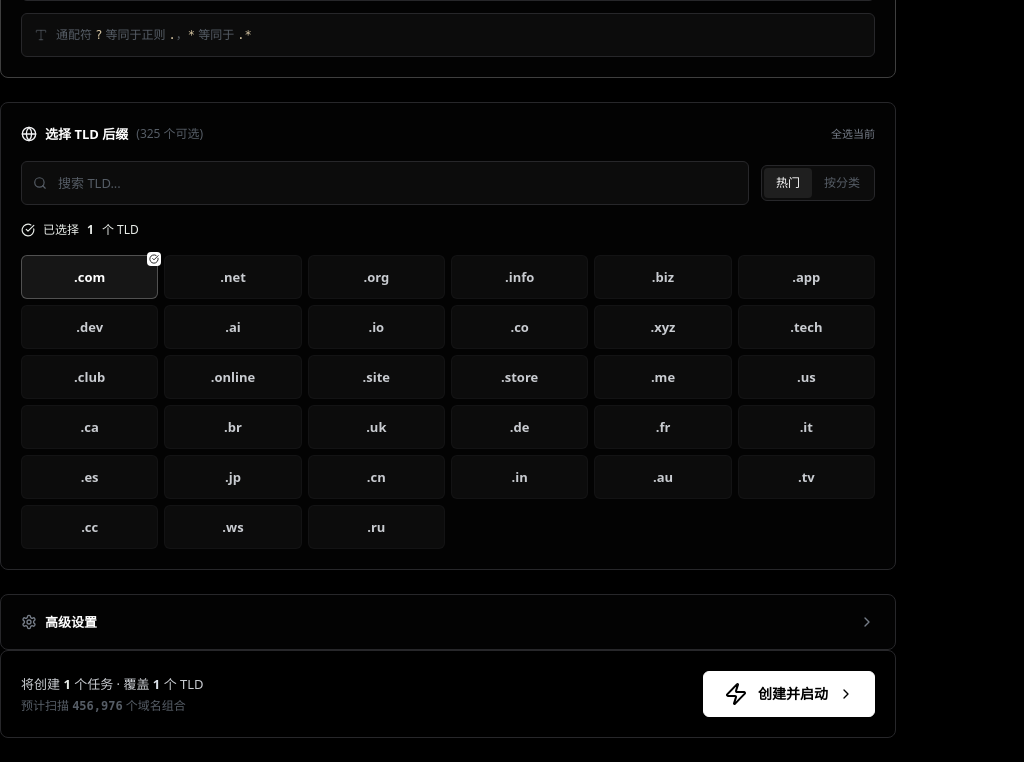
Test: NewTask proxy selection › supports selecting an offline proxy with the keyboard
(page scrolled)
Click the text "高级设置".
click(59, 622)  # box [21,611,97,633]
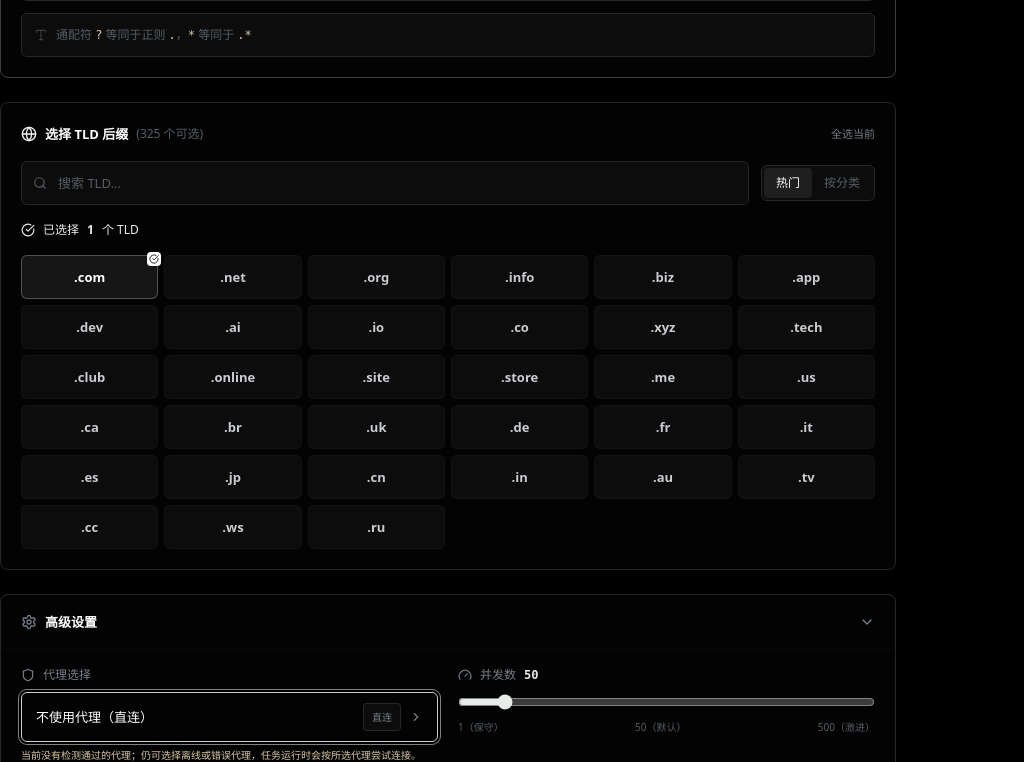
Press Arrowdown Enter
(page scrolled)
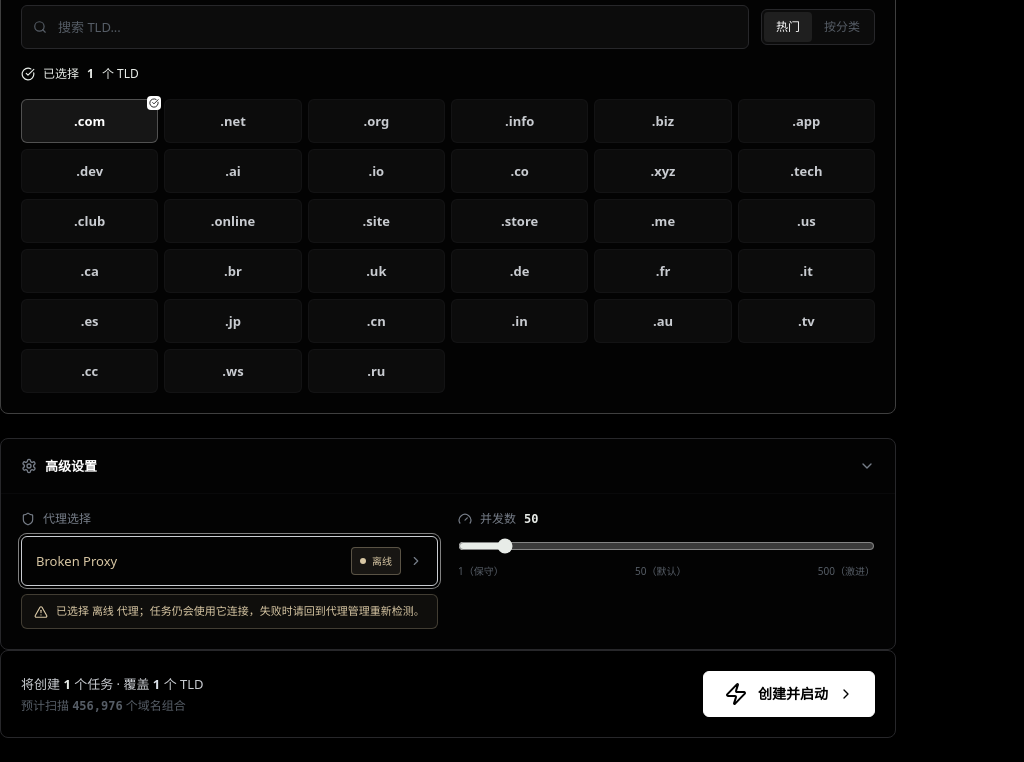
Expected: the dropdown labelled "Broken Proxy 离线" is shown, [21,536,438,586]
Expected: the text "已选择 离线 代理；任务仍会使用它连接，失败时请回到代理管理重新检测。" is shown, [56,603,425,620]
